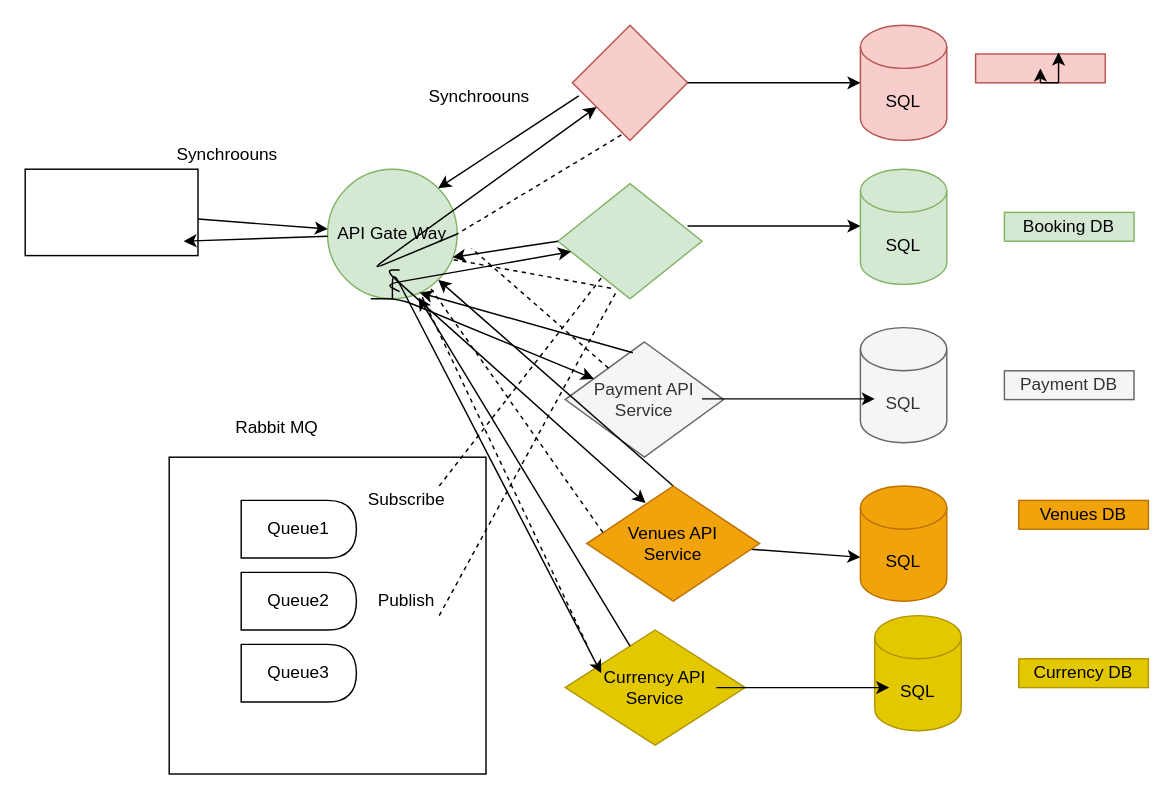
This 1174x799 diagram has some shape labels left out. The box of each missing label's shape, as (x1, y1, x2, y2) in pixels:
Booking API Service: (557, 182, 702, 299)
Client: (24, 168, 198, 256)
Login API Service: (571, 24, 688, 140)
Login DB: (974, 53, 1105, 83)
